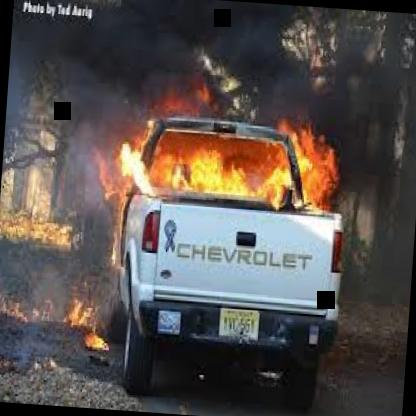fire: (120, 92, 335, 233)
